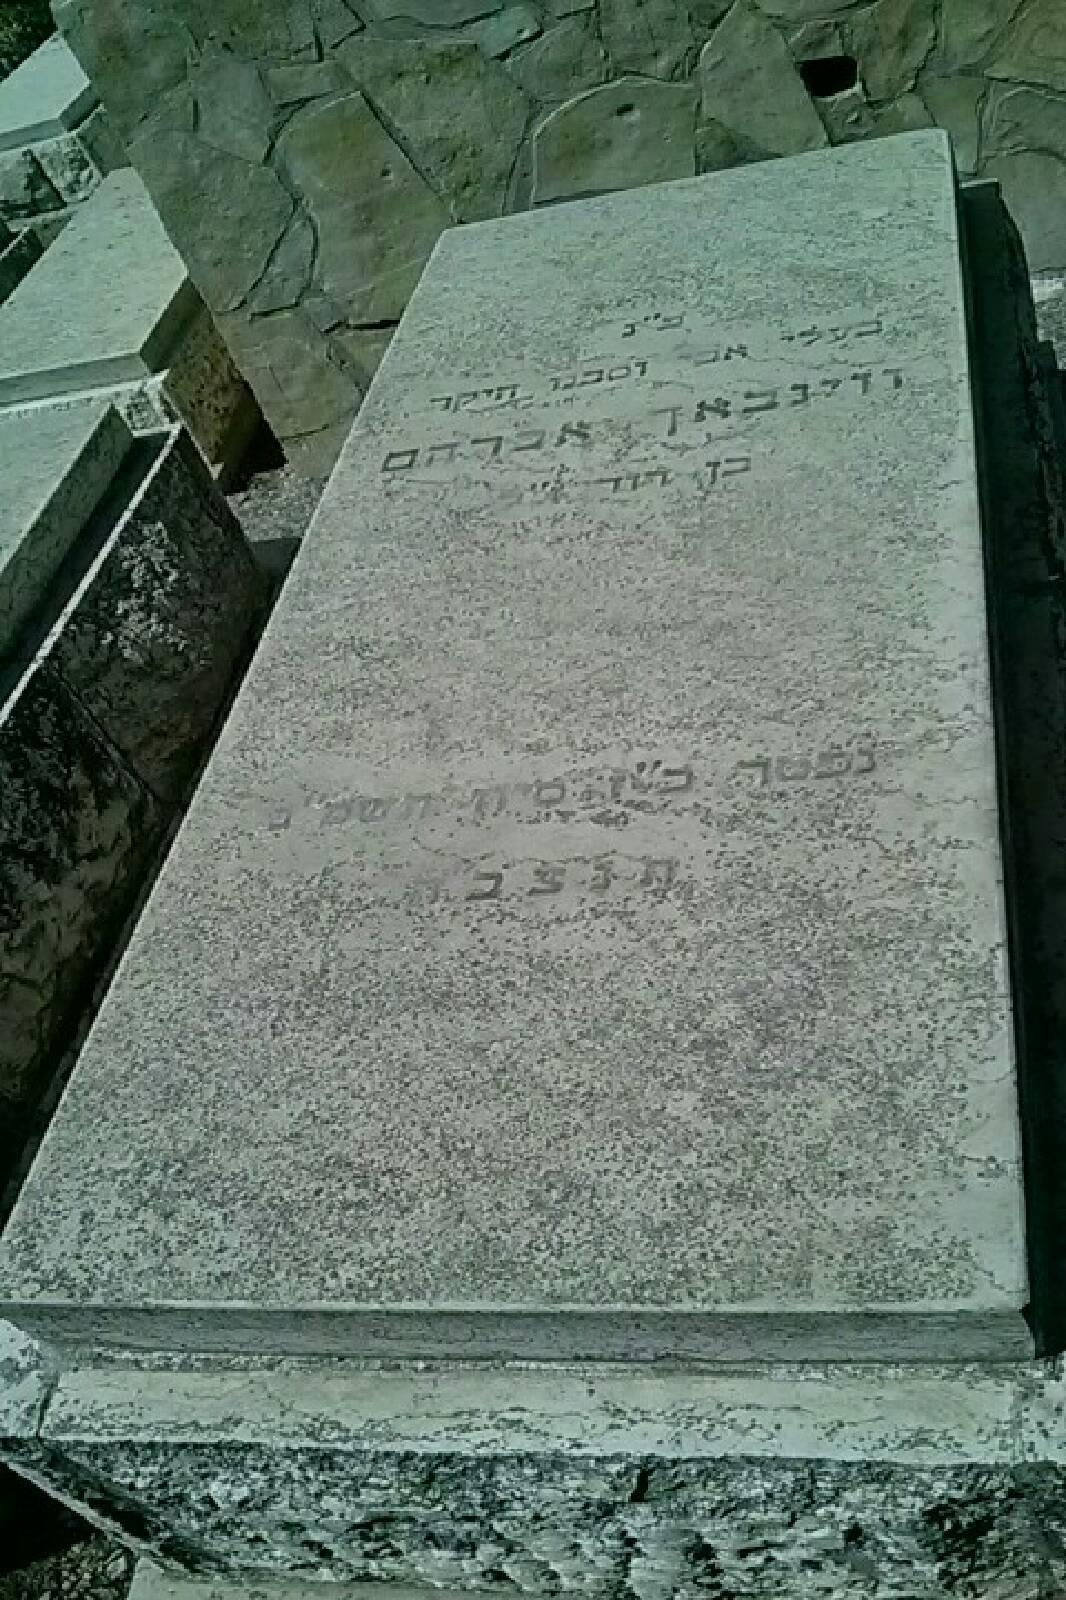vault: (0, 130, 1062, 1590)
